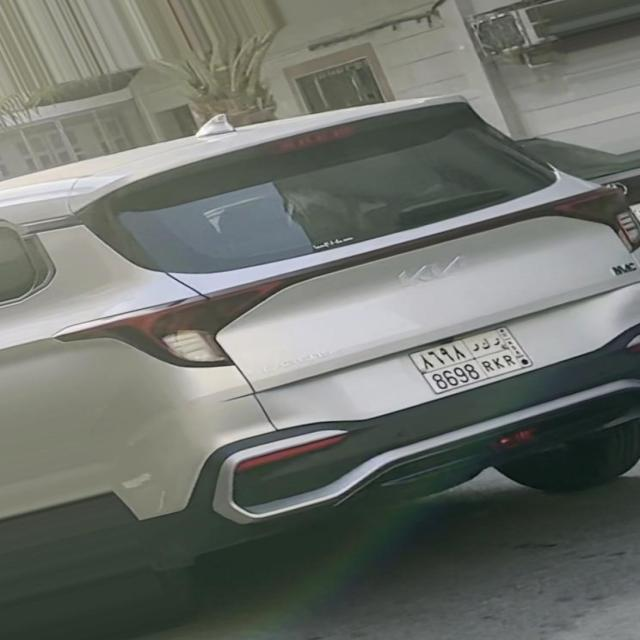Car-plate: (390, 315, 561, 403)
